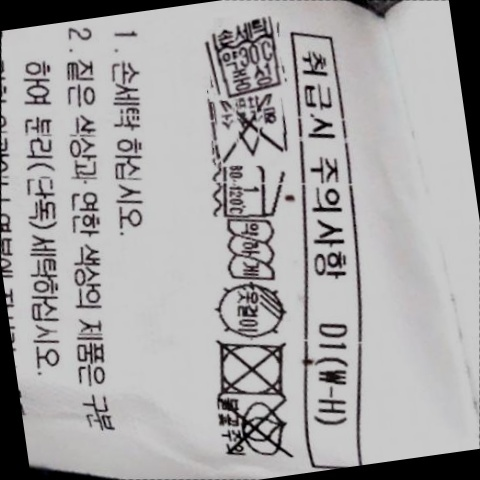DN_tumble_dry: (204, 330, 296, 405)
hand_wash: (202, 17, 289, 98)
iron_low: (213, 157, 287, 225)
line_dry_in_shade: (208, 277, 294, 343)
wring: (218, 214, 282, 287)
